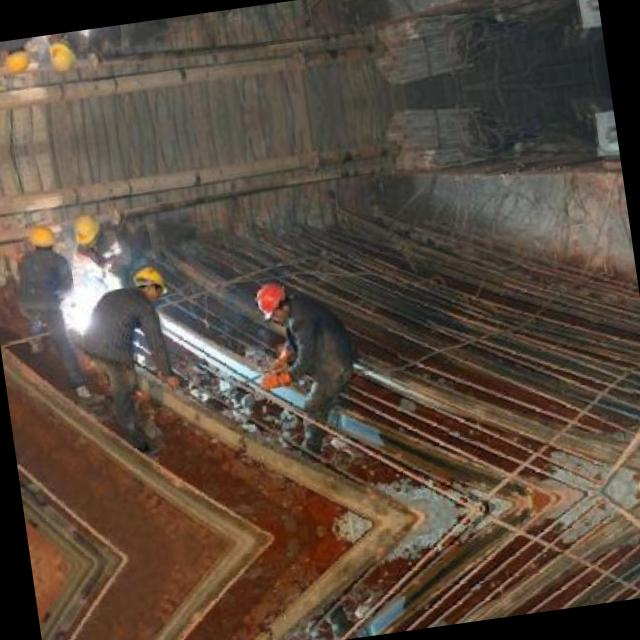helmet: (128, 260, 176, 310), (251, 276, 296, 322), (70, 208, 108, 254), (44, 31, 83, 75), (0, 40, 35, 76), (26, 220, 60, 256)
